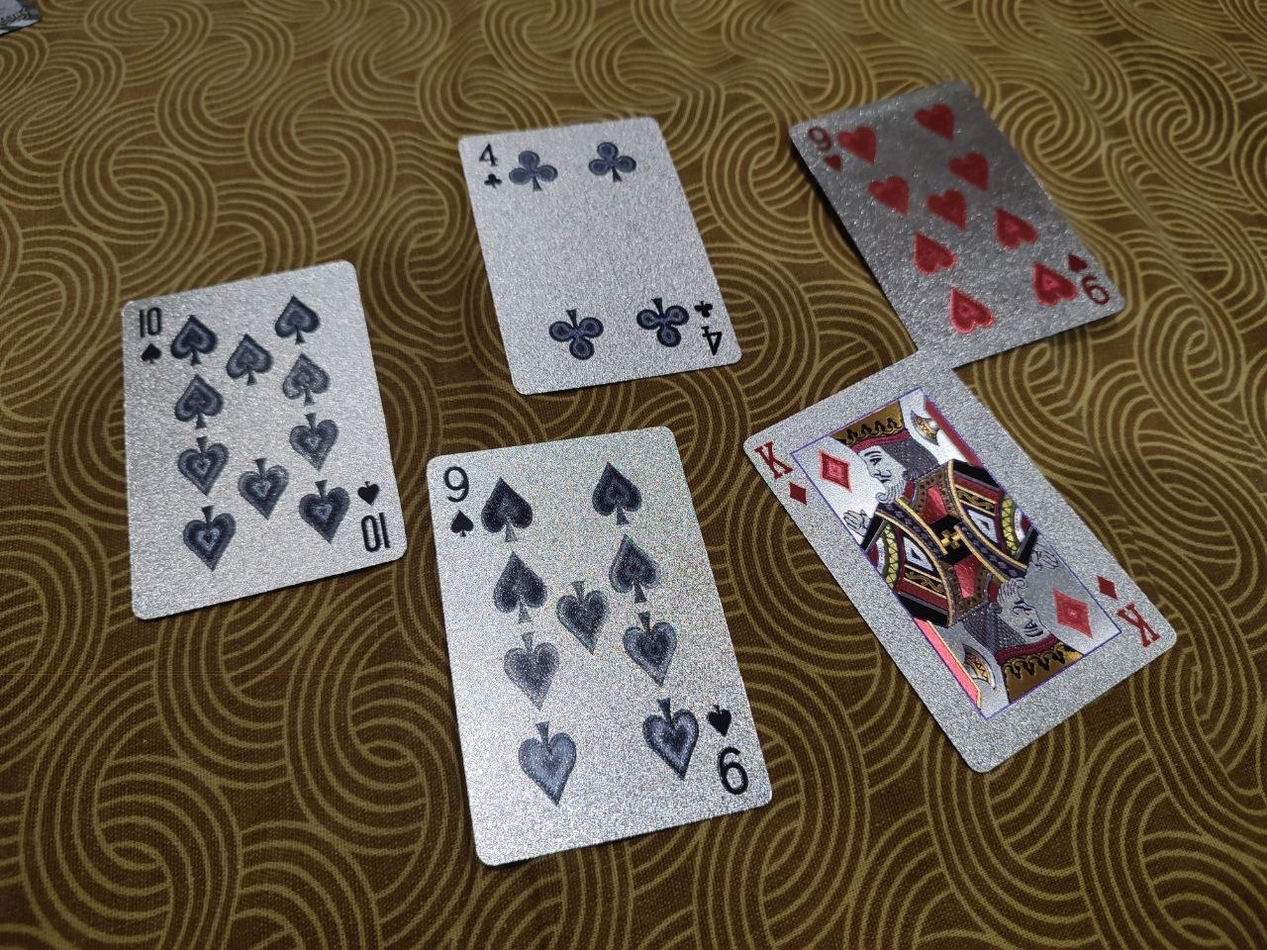10S: (119, 258, 410, 622)
4C: (457, 114, 745, 398)
9H: (786, 78, 1128, 367)
9S: (423, 422, 778, 870)
KD: (741, 348, 1181, 775)
